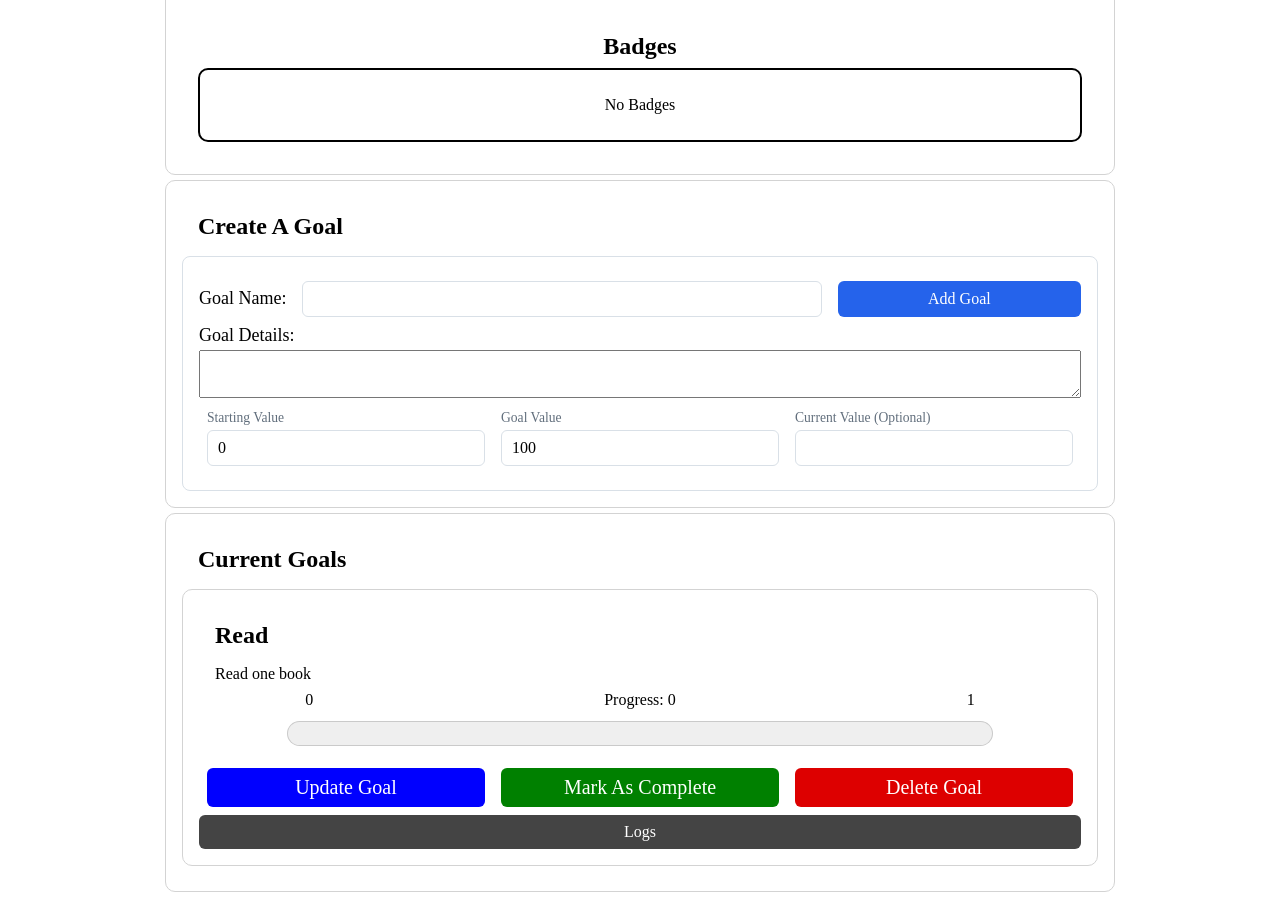
goal functionality › marks a goal complete and disables the complete button
The width and height of the screenshot is (1280, 900).
(page scrolled)
Click the button "Mark As Complete" at (640, 787), box [501, 768, 779, 806]
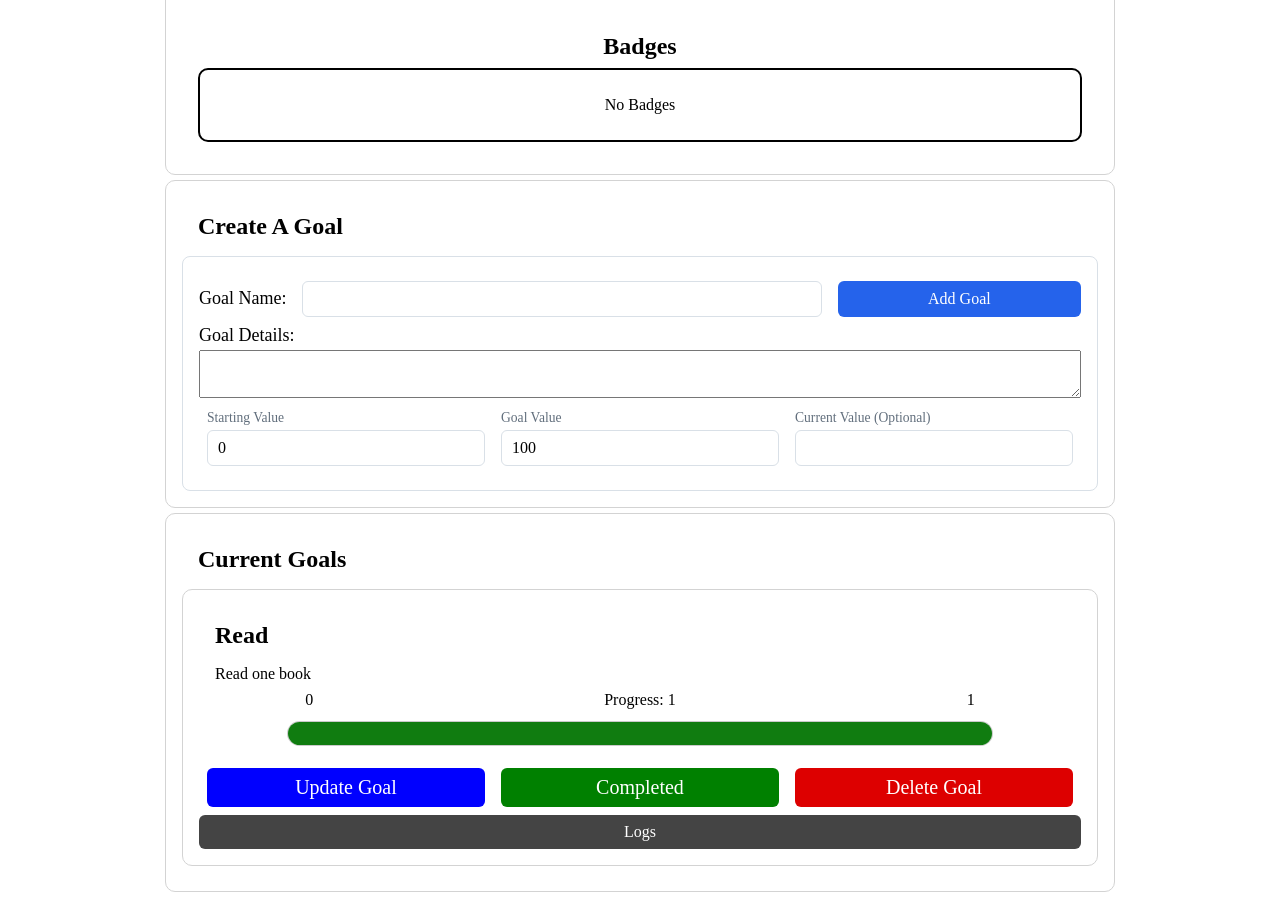
Check: the button "Completed" is disabled, box [501, 768, 779, 806]
